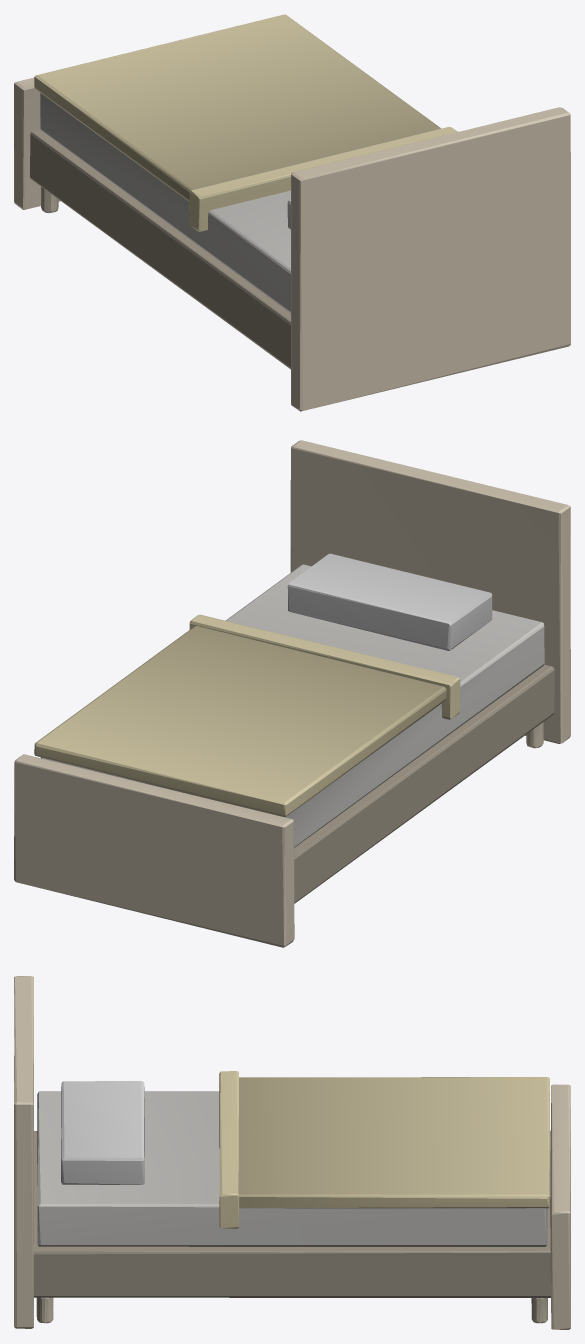
The model's file is furn_bed__butter_low.glb.
The picture shows the model from 3 angles, top to bottom: view 1: azimuth 30°, elevation 25°; view 2: azimuth 150°, elevation 25°; view 3: azimuth 270°, elevation 25°; orthographic projection. The views are drawn at different scales.
Bounding box in the file's own units: 1.16 × 0.9554 × 2.12.
